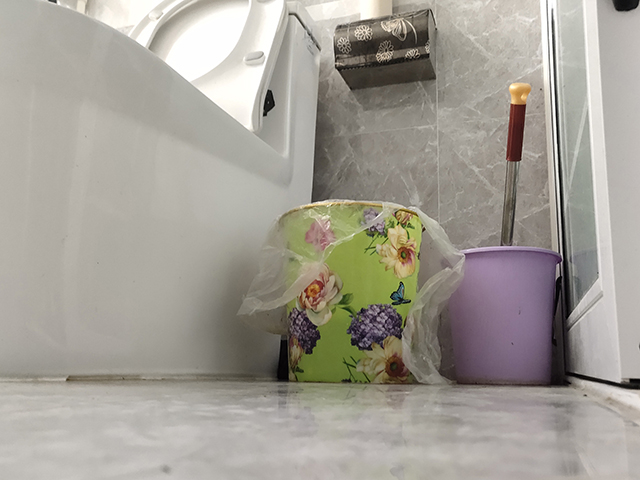closestool: (1, 1, 327, 385)
trashcan: (271, 197, 427, 385)
